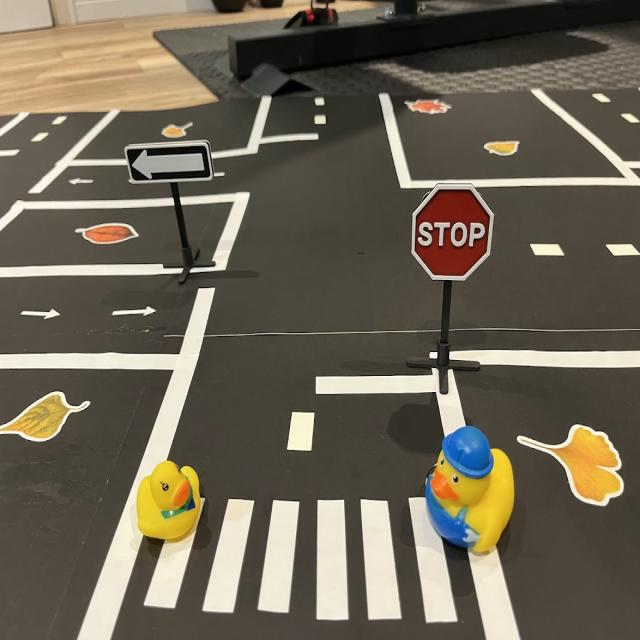duck_regular: (137, 459, 205, 545)
duck_specialty: (426, 426, 516, 558)
road_crosswalk: (137, 488, 466, 630)
road_oneway: (14, 302, 68, 323), (110, 300, 161, 320), (67, 171, 97, 190)
sign_oneway_left: (125, 140, 214, 186)
sign_stop: (411, 191, 494, 285)
